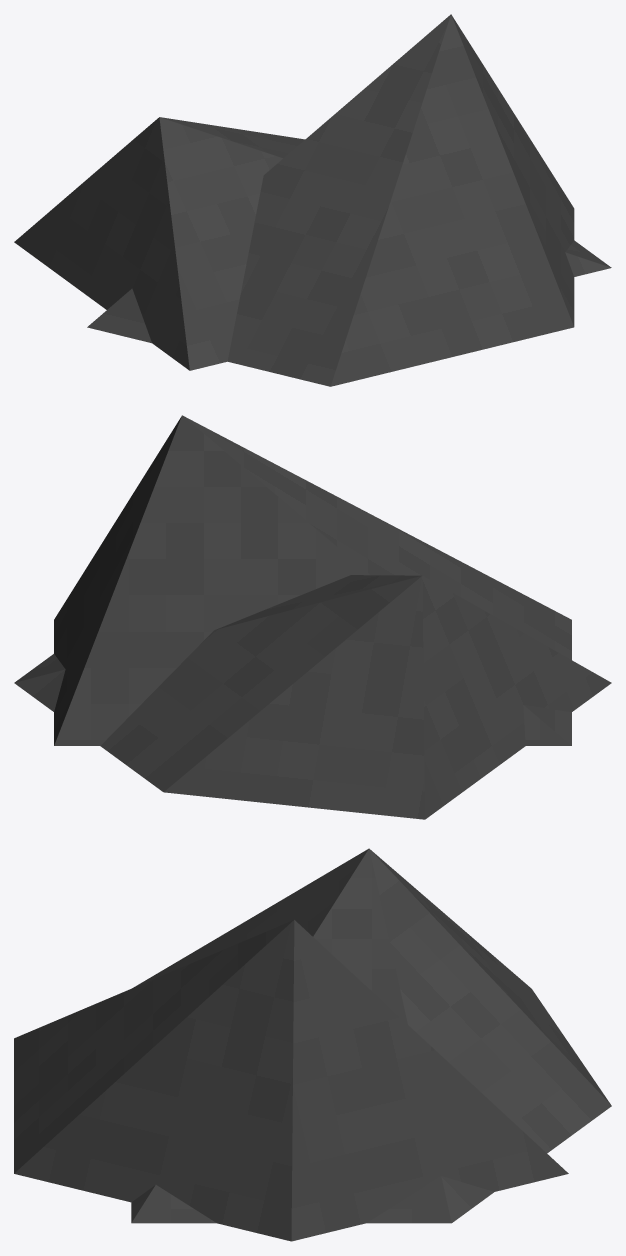
Rendered from Rock.gltf.
3 renders of one model, top to bottom at view 1: azimuth 30°, elevation 25°; view 2: azimuth 150°, elevation 25°; view 3: azimuth 270°, elevation 25°, orthographic. The views are drawn at different scales.
Visible parts, largest first — view 1: sphere; view 2: sphere; view 3: sphere.
Part boxes in pixels (x1,y1,x2,y2): sphere: [14, 14, 611, 386]; sphere: [14, 415, 611, 819]; sphere: [14, 848, 611, 1241].
Size of the model in its own units: 1 by 0.4375 by 0.933.
1 material, 1 textured.
